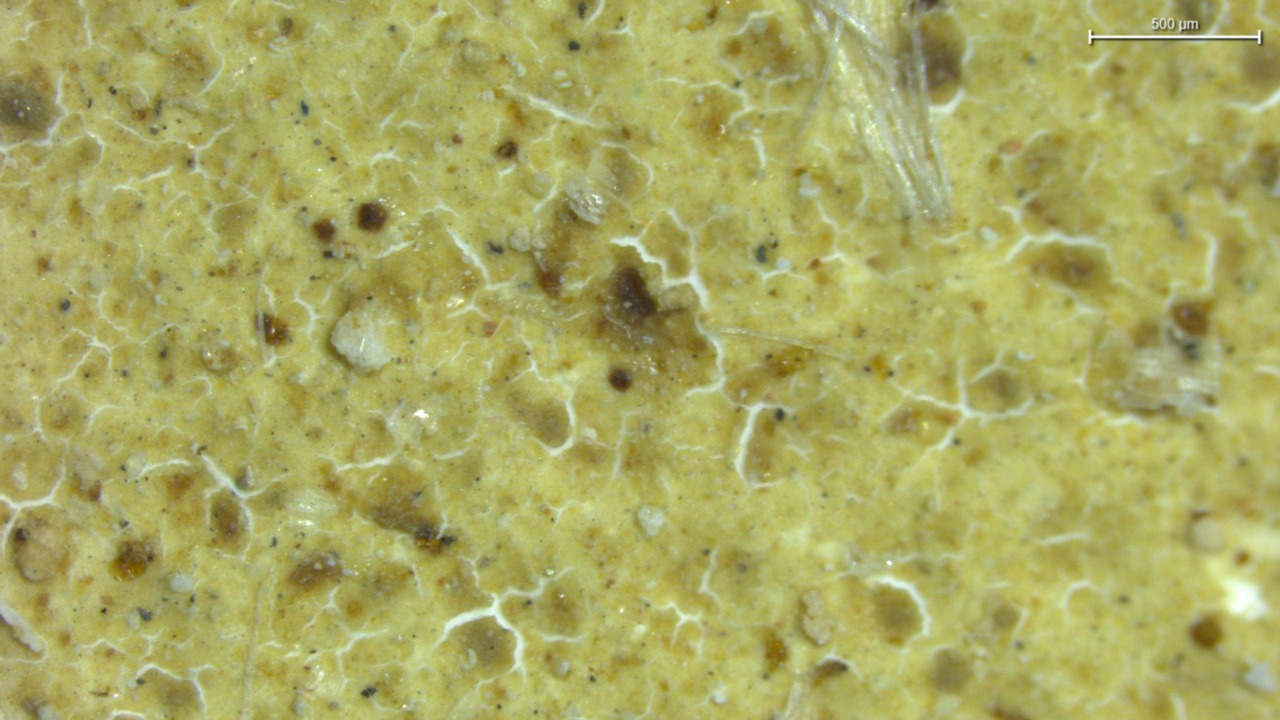microplastic_fragment: (330, 297, 401, 371)
